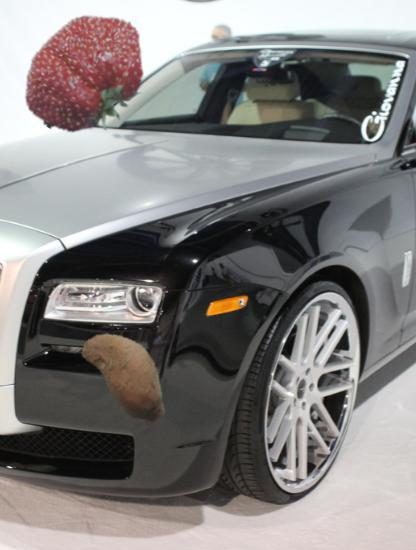Potato: (75, 321, 184, 430)
Strawberry: (22, 7, 156, 141)
